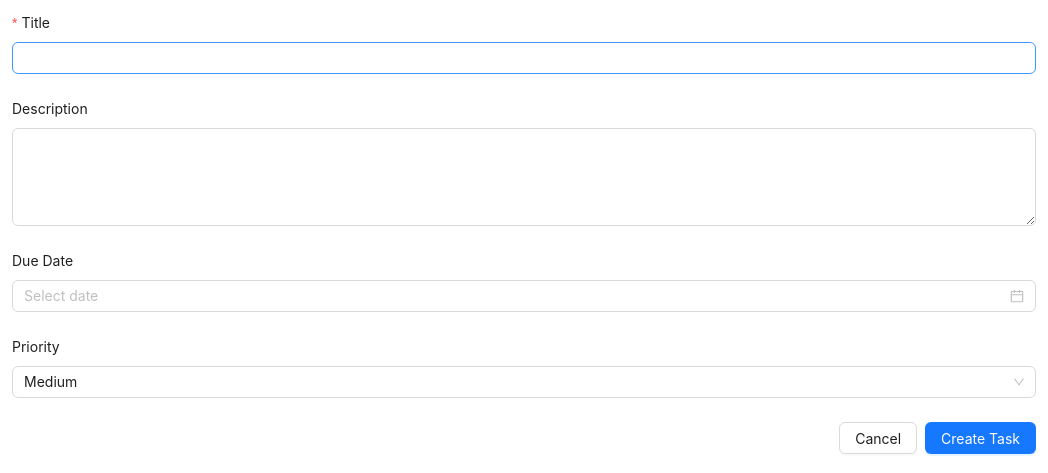
TaskForm › validates required fields
Click the button "Create Task" at [981, 438], box [925,422,1036,454]
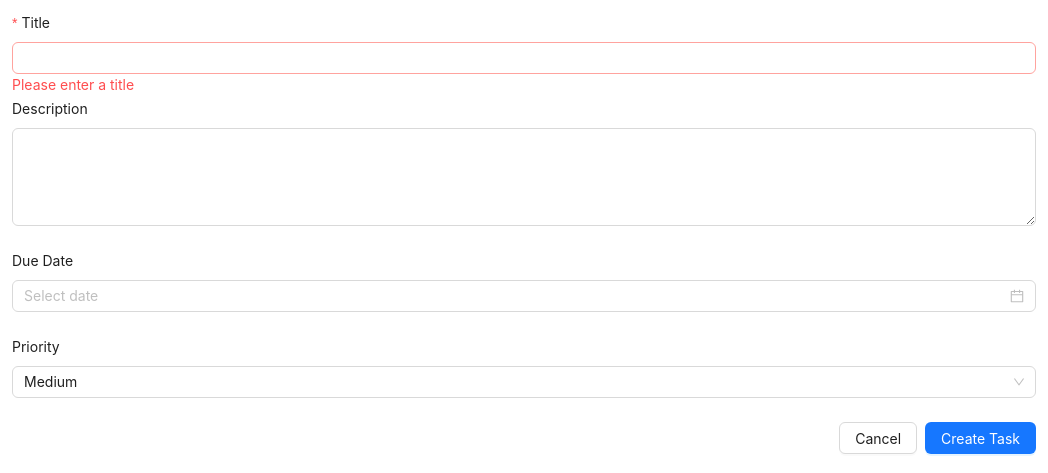
Check: the text "Please enter a title" is shown, box [12,76,134,93]
